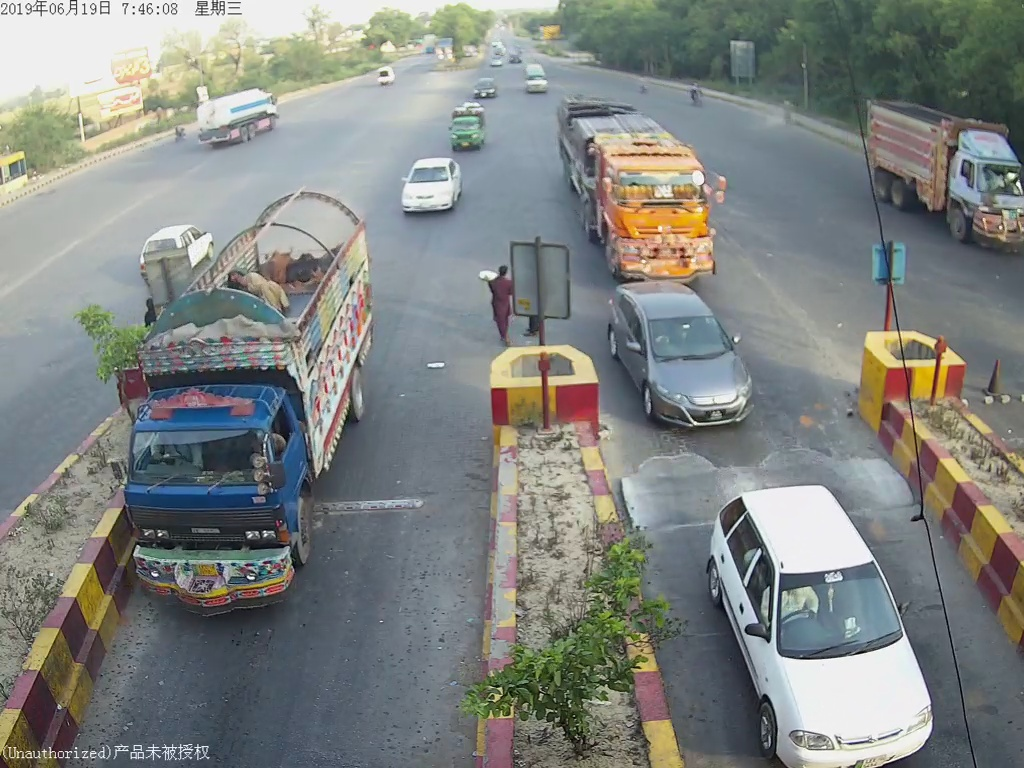Cat-1: (701, 486, 943, 756), (606, 283, 761, 427), (404, 154, 458, 219)
Cat-4: (121, 192, 373, 614)
Cat-5: (560, 93, 736, 261)
